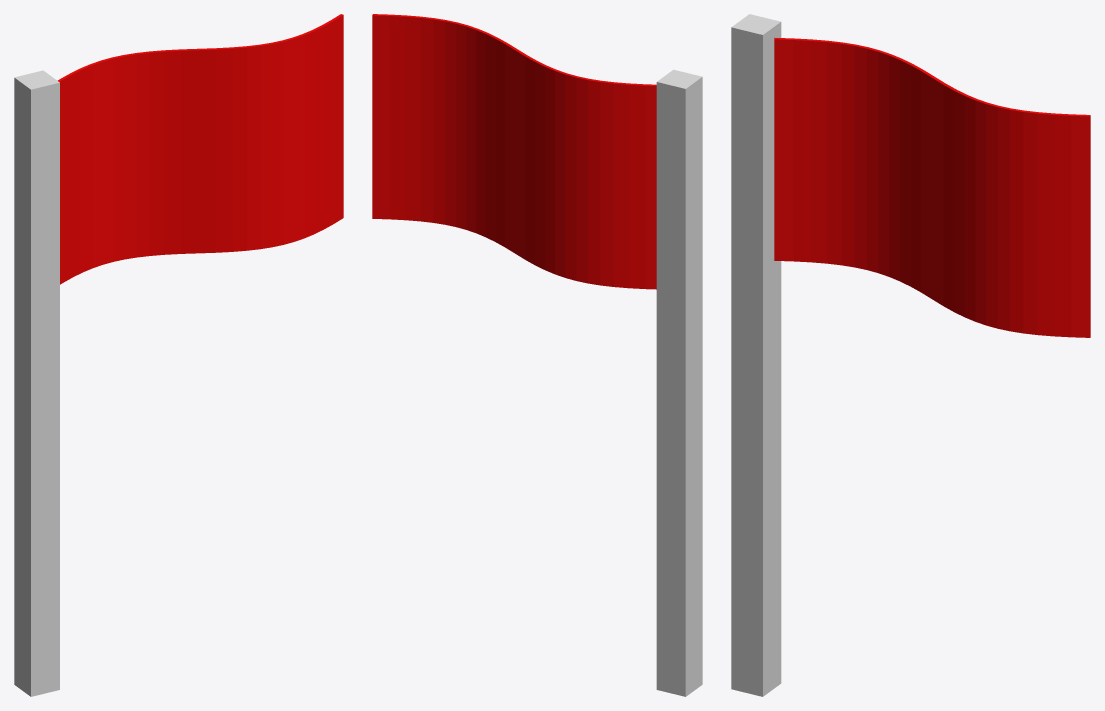
3 renders of one model, left to right at view 1: azimuth 30°, elevation 25°; view 2: azimuth 150°, elevation 25°; view 3: azimuth 330°, elevation 25°, orthographic. The views are drawn at different scales.
Visible parts, largest first — view 1: 红旗; view 2: 红旗; view 3: 红旗.
Boxes of the visible parts, x1,y1,x2,y2 form: 红旗: (14,14,343,696); 红旗: (372,14,702,696); 红旗: (731,14,1090,696).
Size of the model in its own units: 111 by 200 by 16.
